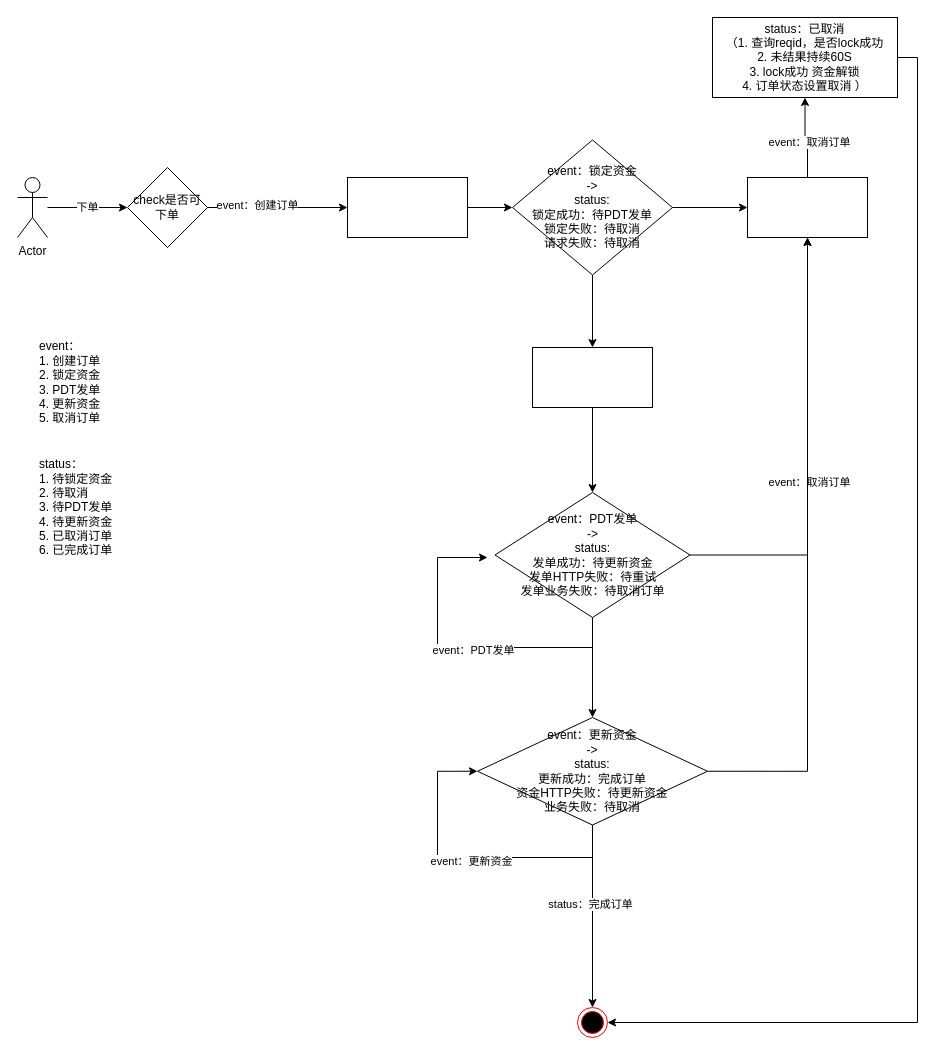
This 943x1055 diagram has some shape labels left out. The centre of each missing label's shape, as x and y in pixels:
status：待PDT发单: (592,377)
status：待取消: (807,207)
status：待锁定资金: (407,207)
